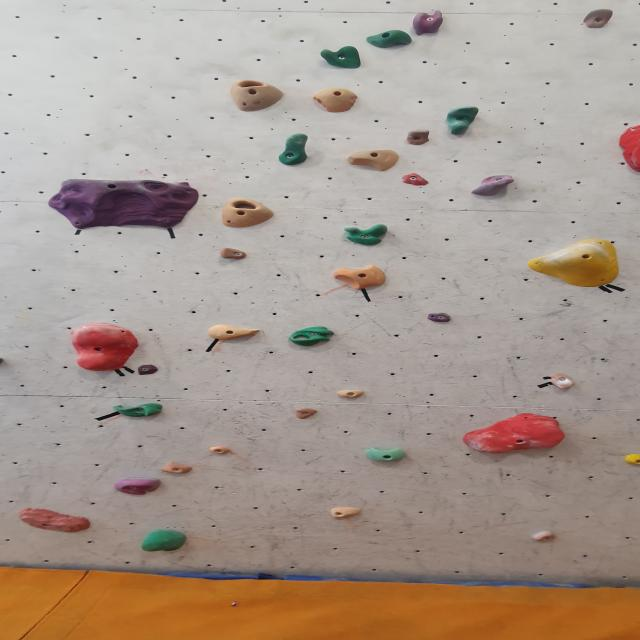Crimp: (44, 176, 204, 231), (328, 508, 363, 522), (399, 172, 429, 186), (336, 388, 367, 400), (530, 530, 558, 543), (292, 409, 318, 421), (425, 313, 453, 324)
Jug: (442, 106, 483, 136), (276, 132, 312, 166), (317, 47, 364, 71), (342, 226, 390, 248), (363, 30, 412, 50), (110, 405, 164, 420), (582, 9, 616, 31), (544, 375, 576, 391), (406, 129, 432, 147), (217, 248, 249, 261)
Pinch: (331, 265, 388, 291), (344, 148, 402, 172), (408, 10, 449, 36), (471, 174, 516, 197), (206, 323, 261, 341), (363, 449, 408, 464), (160, 460, 194, 476), (207, 446, 232, 456)
Pocket: (224, 79, 286, 113), (220, 196, 278, 228), (286, 328, 334, 349)
Sloper: (524, 239, 622, 288), (461, 414, 569, 456), (68, 322, 142, 372), (16, 510, 94, 534), (311, 90, 361, 116), (139, 530, 189, 554), (617, 122, 640, 174), (112, 477, 164, 497)
